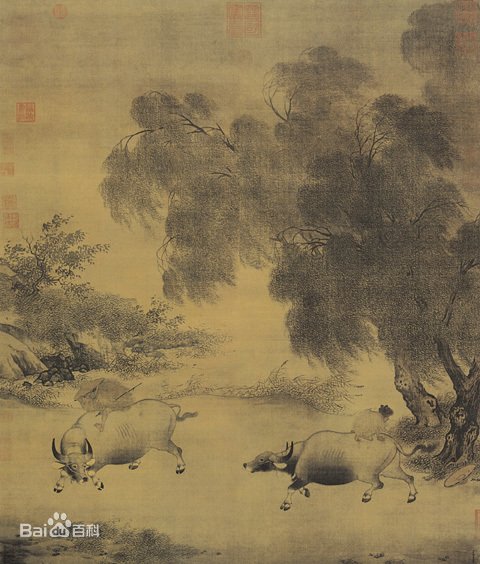cow: (237, 434, 434, 505), (51, 405, 203, 486)
grass: (211, 370, 368, 420), (100, 518, 210, 564)
man: (75, 374, 134, 419), (351, 399, 393, 447)
tree: (97, 5, 478, 483), (40, 211, 193, 381)
